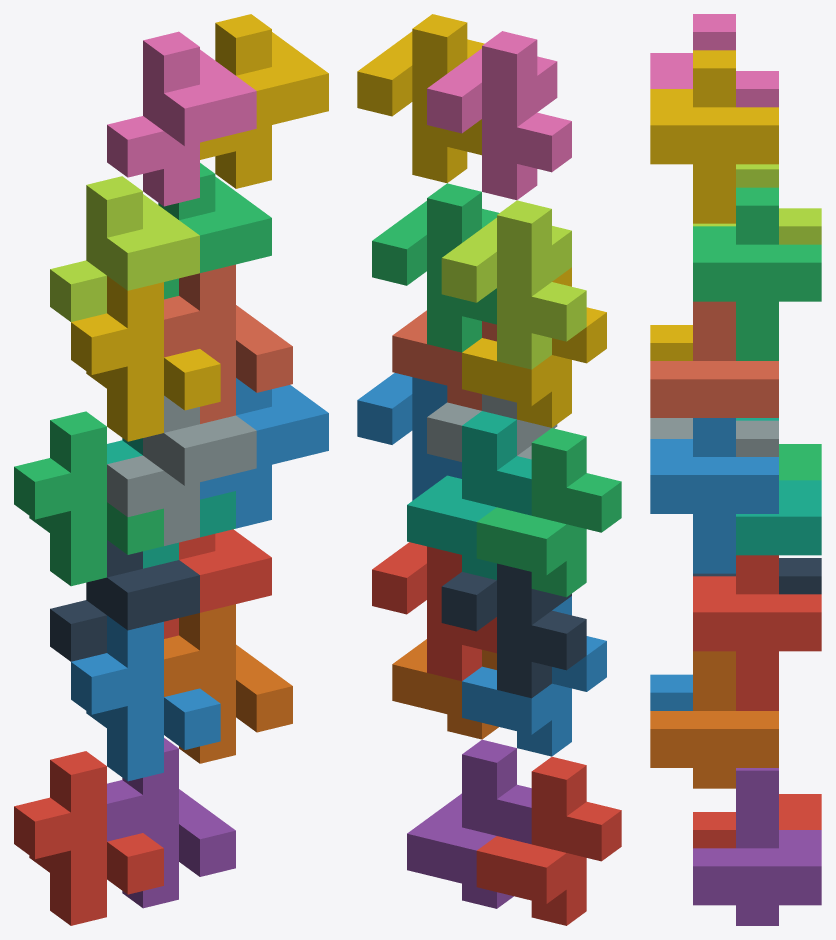
Rendered from tiling.obj.
The picture shows the model from 3 angles, left to right: view 1: azimuth 30°, elevation 25°; view 2: azimuth 150°, elevation 25°; view 3: azimuth 270°, elevation 25°; orthographic projection. The views are drawn at different scales.
Visible parts, largest first — view 1: copy_2_domain_4, copy_1_domain_1, copy_1_domain_2, copy_1_domain_4, copy_1_domain_3, copy_2_domain_3, copy_2_domain_2, copy_2_domain_8, copy_1_domain_6, copy_1_domain_8, copy_1_domain_5, copy_2_domain_1 (+4 smaller); view 2: copy_2_domain_4, copy_2_domain_3, copy_1_domain_3, copy_1_domain_1, copy_2_domain_1, copy_1_domain_5, copy_1_domain_7, copy_2_domain_8, copy_2_domain_7, copy_2_domain_5, copy_1_domain_4, copy_1_domain_2 (+4 smaller); view 3: copy_2_domain_7, copy_2_domain_8, copy_1_domain_5, copy_2_domain_5, copy_2_domain_6, copy_1_domain_6, copy_1_domain_8, copy_1_domain_7, copy_2_domain_4, copy_1_domain_1, copy_2_domain_3, copy_2_domain_2 (+4 smaller).
Boxes of the visible parts, x1,y1,x2,y2 form: copy_2_domain_4: [107, 31, 256, 206]; copy_1_domain_1: [14, 751, 163, 925]; copy_1_domain_2: [71, 615, 220, 781]; copy_1_domain_4: [71, 276, 220, 441]; copy_1_domain_3: [14, 411, 163, 586]; copy_2_domain_3: [50, 176, 199, 321]; copy_2_domain_2: [107, 395, 256, 545]; copy_2_domain_8: [200, 14, 328, 188]; copy_1_domain_6: [164, 604, 292, 763]; copy_1_domain_8: [164, 264, 292, 423]; copy_1_domain_5: [107, 738, 235, 908]; copy_2_domain_1: [50, 540, 199, 661]; copy_2_domain_4: [427, 31, 571, 200]; copy_2_domain_3: [441, 200, 586, 369]; copy_1_domain_3: [476, 428, 621, 597]; copy_1_domain_1: [476, 756, 621, 925]; copy_2_domain_1: [441, 563, 586, 698]; copy_1_domain_5: [407, 739, 531, 908]; copy_1_domain_7: [407, 411, 531, 580]; copy_2_domain_8: [357, 14, 484, 182]; copy_2_domain_7: [372, 183, 499, 352]; copy_2_domain_5: [372, 542, 496, 681]; copy_1_domain_4: [462, 267, 606, 427]; copy_1_domain_2: [462, 596, 606, 756]; copy_2_domain_7: [693, 187, 821, 360]; copy_2_domain_8: [650, 50, 778, 223]; copy_1_domain_5: [693, 768, 821, 925]; copy_2_domain_5: [693, 555, 821, 710]; copy_2_domain_6: [650, 418, 778, 573]; copy_1_domain_6: [650, 651, 778, 788]; copy_1_domain_8: [650, 301, 778, 417]; copy_1_domain_7: [736, 418, 821, 555]; copy_2_domain_4: [650, 14, 778, 107]; copy_1_domain_1: [693, 794, 821, 848]; copy_2_domain_3: [693, 164, 821, 244]; copy_2_domain_2: [650, 418, 778, 456].
Bounding box in the file's own units: 7 × 23 × 4.
